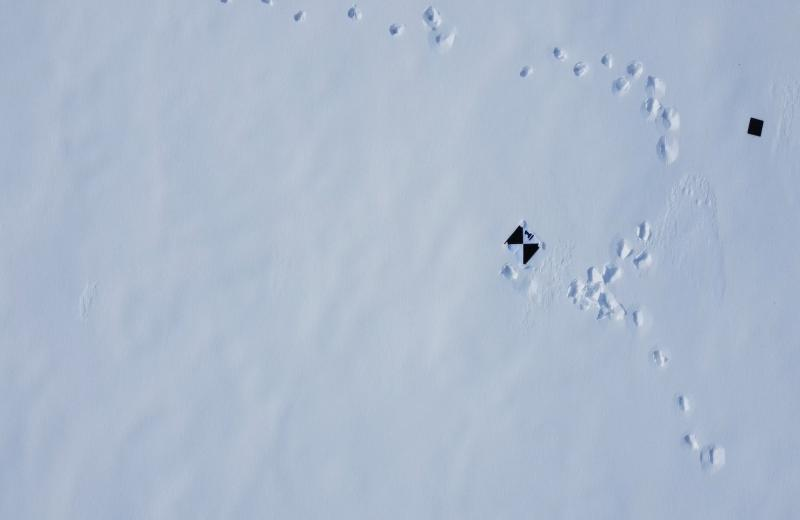Square: (746, 115, 764, 137)
